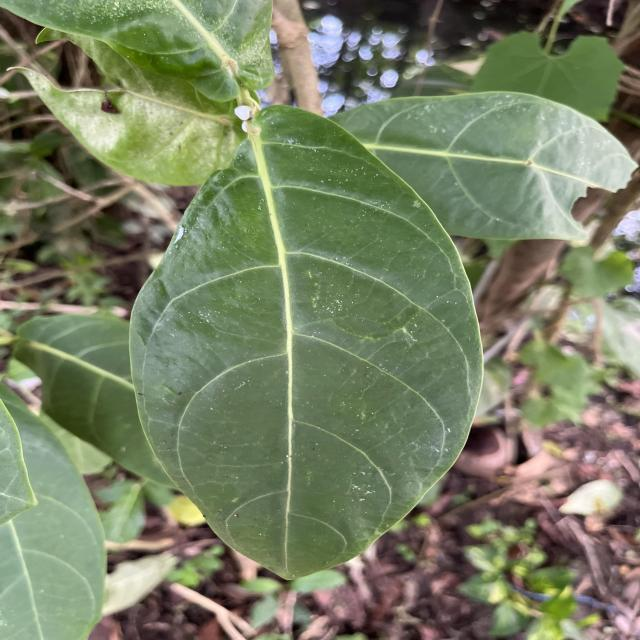Calotropis gigantea: (126, 102, 484, 582), (328, 86, 640, 243)
